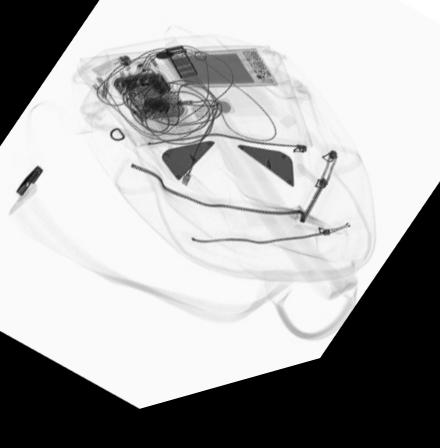Lighter: (87, 58, 132, 84)
